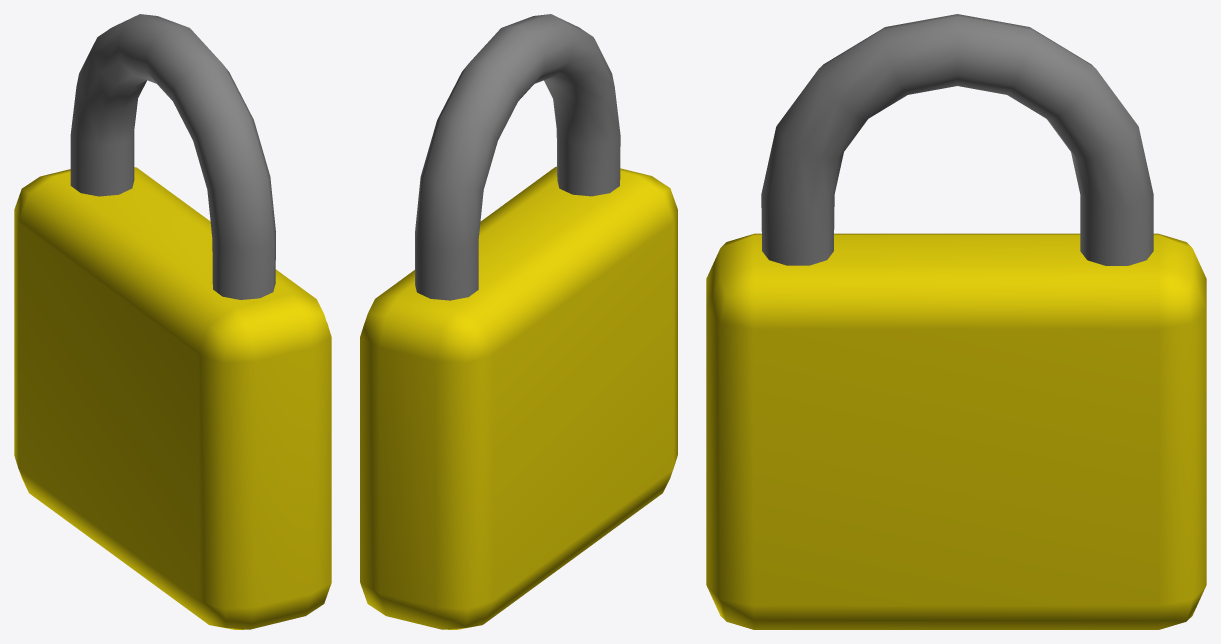
File: Lock.fbx
The picture shows the model from 3 angles, left to right: view 1: azimuth 30°, elevation 25°; view 2: azimuth 150°, elevation 25°; view 3: azimuth 270°, elevation 25°; orthographic projection. The views are drawn at different scales.
Parts seen in each view (by area): view 1: Lock, LockIron; view 2: Lock, LockIron; view 3: Lock, LockIron.
Boxes of the visible parts, bbox=[...] form: Lock: bbox=[14, 167, 331, 629]; LockIron: bbox=[70, 14, 275, 299]; Lock: bbox=[360, 166, 677, 629]; LockIron: bbox=[415, 14, 620, 300]; Lock: bbox=[706, 233, 1206, 629]; LockIron: bbox=[761, 14, 1153, 265].
Bounding box in the file's own units: 0.4847 × 1.9 × 1.45.
